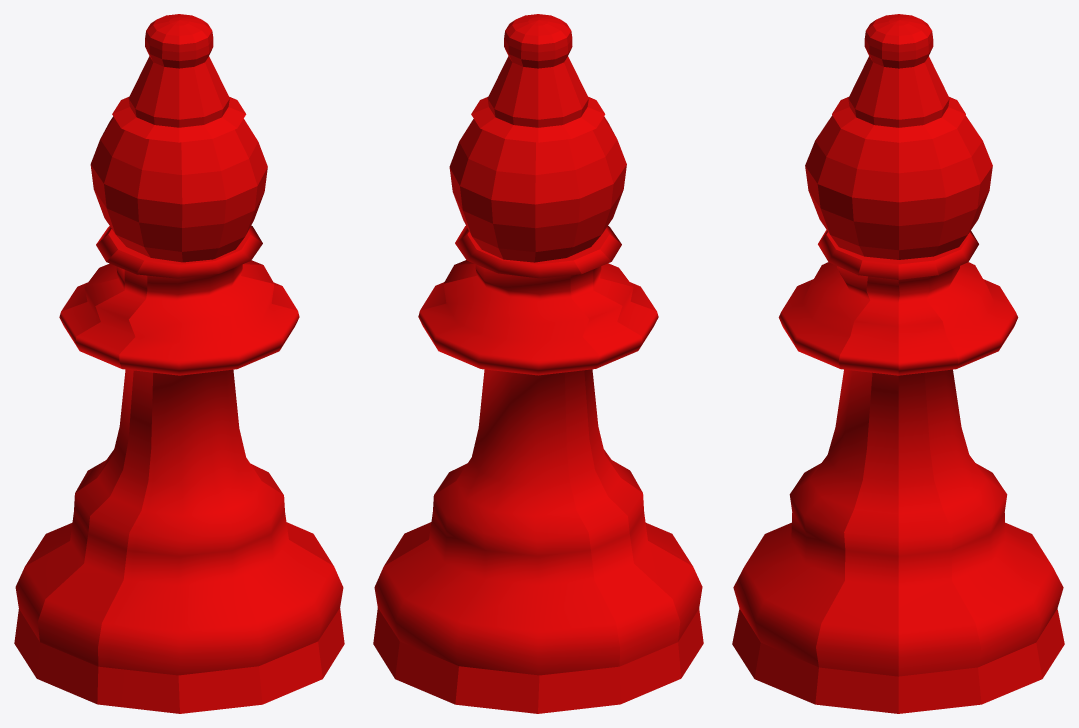
Rendered from SM_Bishop.fbx.
3 renders of one model, left to right at view 1: azimuth 30°, elevation 25°; view 2: azimuth 150°, elevation 25°; view 3: azimuth 270°, elevation 25°, orthographic.
Visible parts, largest first — view 1: pSphere6; view 2: pSphere6; view 3: pSphere6.
Boxes of the visible parts, x1,y1,x2,y2 form: pSphere6: (14, 14, 344, 713); pSphere6: (373, 14, 703, 713); pSphere6: (732, 14, 1064, 713).
Size of the model in its own units: 1.32 by 2.75 by 1.33.
